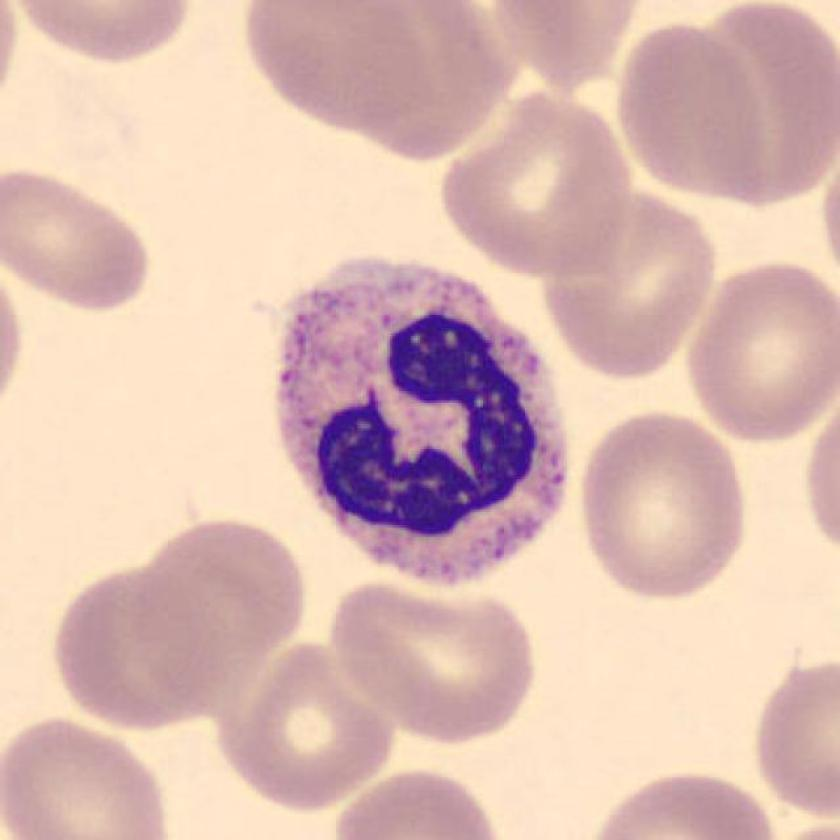neutrophil: (274, 257, 569, 581)
